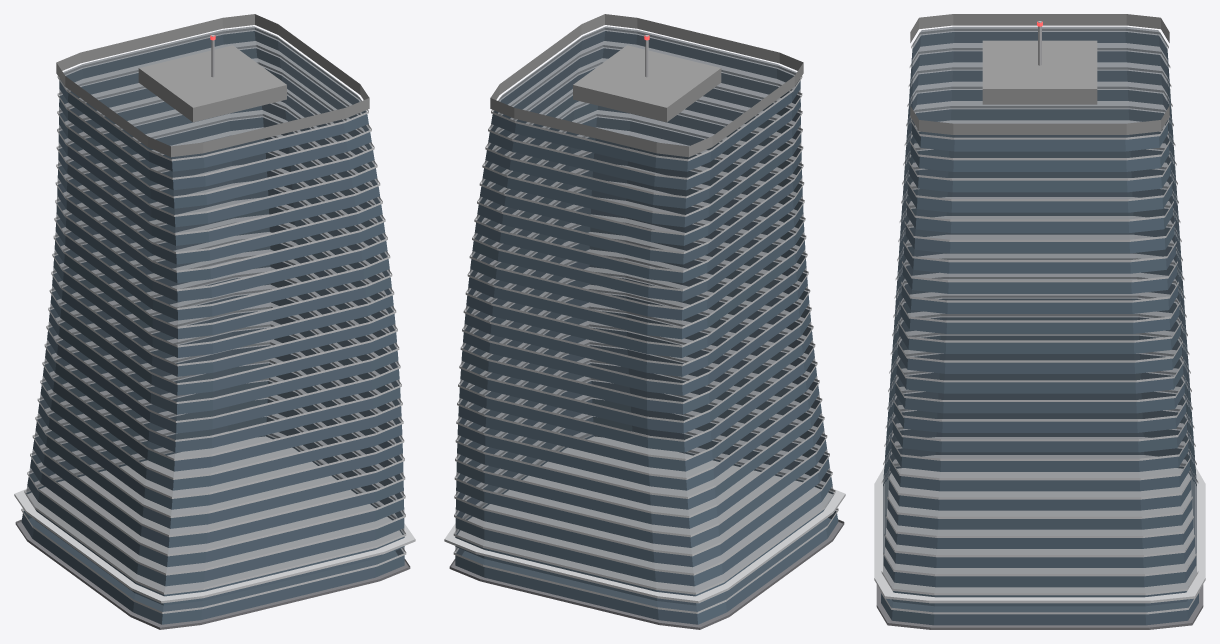
The model's file is alphadome_tower.glb.
3 renders of one model, left to right at view 1: azimuth 30°, elevation 25°; view 2: azimuth 150°, elevation 25°; view 3: azimuth 270°, elevation 25°, orthographic. The views are drawn at different scales.
Parts seen in each view (by area): view 1: alphadome_tower; view 2: alphadome_tower; view 3: alphadome_tower.
Boxes of the visible parts, <box> form: alphadome_tower: <box>14,14,415,629</box>; alphadome_tower: <box>444,14,845,629</box>; alphadome_tower: <box>874,14,1205,629</box>.
Bounding box in the file's own units: 62.51 × 112 × 62.48.
